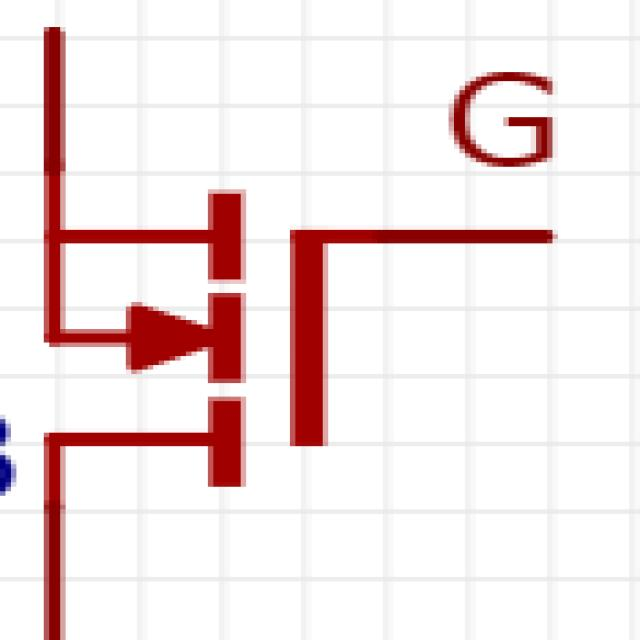nmos: (22, 22, 586, 640)
